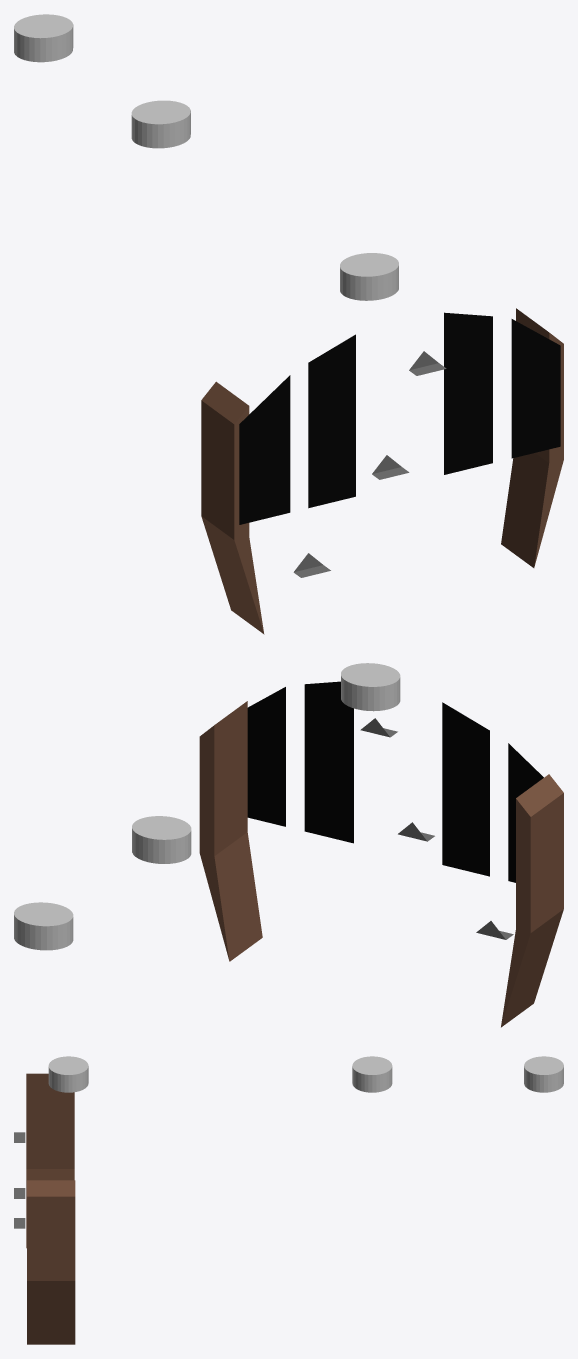
The model's file is lbscr-4wheel-brake-parts.dae.
3 renders of one model, top to bottom at view 1: azimuth 30°, elevation 25°; view 2: azimuth 150°, elevation 25°; view 3: azimuth 270°, elevation 25°, orthographic. The views are drawn at different scales.
Parts seen in each view (by area): view 1: Cube_009, Plane_034, Plane_033, Plane_032, Plane_035, Cube_002, Cylinder_009, Cylinder_010, Cylinder_016; view 2: Cube_002, Cube_009, Plane_034, Plane_033, Plane_035, Cylinder_010, Cylinder_009, Cylinder_016, Plane_032; view 3: Cube_002, Cube_009, Cylinder_016, Cylinder_009, Cylinder_010.
Boxes of the visible parts, <box> form: Cube_009: <box>201,381,264,634</box>; Plane_034: <box>444,312,492,474</box>; Plane_033: <box>308,334,355,508</box>; Plane_032: <box>239,375,290,524</box>; Plane_035: <box>511,319,560,458</box>; Cube_002: <box>501,308,563,567</box>; Cylinder_009: <box>131,100,190,148</box>; Cylinder_010: <box>14,14,73,62</box>; Cylinder_016: <box>340,253,398,300</box>; Cube_002: <box>199,701,262,961</box>; Cube_009: <box>501,774,563,1027</box>; Plane_034: <box>304,681,353,843</box>; Plane_033: <box>442,702,489,876</box>; Plane_035: <box>247,687,285,826</box>; Cylinder_010: <box>14,902,73,950</box>; Cylinder_009: <box>132,816,191,863</box>; Cylinder_016: <box>341,663,400,711</box>; Plane_032: <box>508,743,543,882</box>; Cube_002: <box>27,1180,75,1344</box>; Cube_009: <box>26,1073,74,1248</box>; Cylinder_016: <box>48,1056,88,1092</box>; Cylinder_009: <box>352,1056,392,1092</box>; Cylinder_010: <box>524,1056,563,1092</box>.
Size of the model in its own units: 2.18 by 4.33 by 2.
